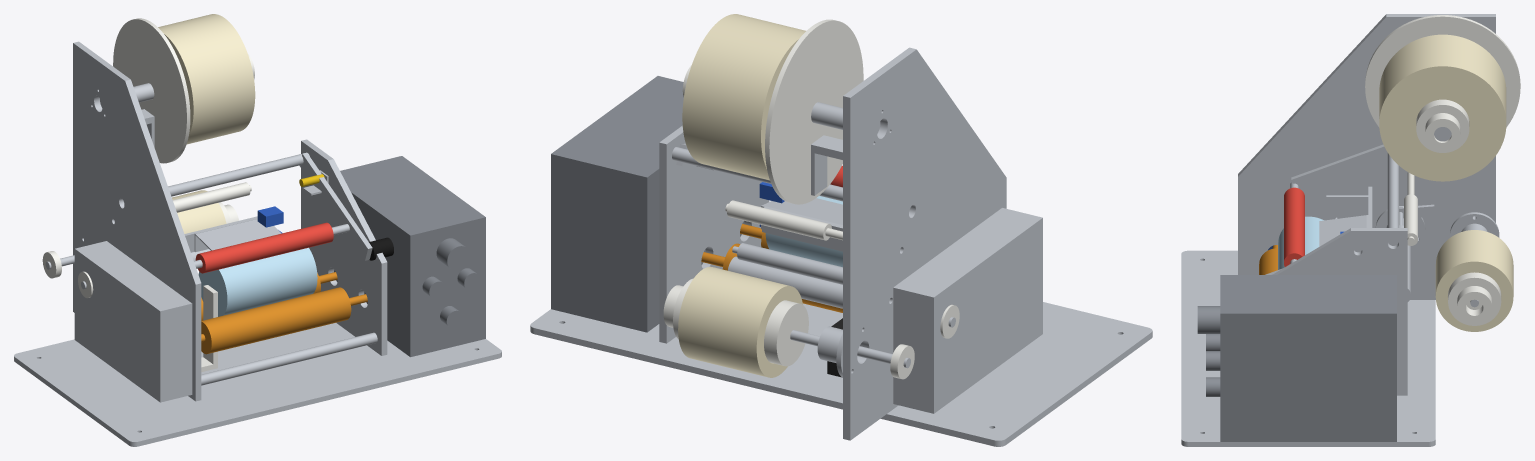
Rendered from P1-404-ASM.glb.
3 views of the same model, side by side, from view 1: azimuth 30°, elevation 25°; view 2: azimuth 150°, elevation 25°; view 3: azimuth 270°, elevation 25° (orthographic). The views are drawn at different scales.
Visible parts, largest first — view 1: P1-404-101, P1-404-102, P1-456, P1-404-204, LABELS, P1-404-103, P1-404-302, P1-425, JAR, P1-455, P1-404-104, P1-404-401 (+5 smaller); view 2: P1-404-102, P1-456, P1-404-101, LABELS, P1-404-204, P1-404-302, P1-404-103, P1-404-202, P1-404-307, P1-404-203, JAR, P1-404-304 (+8 smaller); view 3: P1-456, P1-404-102, LABELS, P1-404-101, P1-404-302, P1-404-103, P1-404-303, P1-404-404, P1-455, P1-404-201, P1-404-402, P1-404-403 (+4 smaller).
Part boxes in pixels (left/top/right/bottom): P1-404-101: left=14, top=323, right=501, bottom=446; P1-404-102: left=73, top=41, right=201, bottom=401; P1-456: left=334, top=156, right=485, bottom=357; P1-404-204: left=74, top=241, right=192, bottom=402; LABELS: left=158, top=14, right=255, bottom=233; P1-404-103: left=301, top=139, right=387, bottom=355; P1-404-302: left=113, top=18, right=231, bottom=223; P1-425: left=201, top=272, right=367, bottom=354; JAR: left=198, top=247, right=317, bottom=316; P1-455: left=195, top=222, right=333, bottom=273; P1-404-104: left=201, top=332, right=377, bottom=385; P1-404-401: left=194, top=218, right=281, bottom=252; P1-404-102: left=843, top=47, right=1006, bottom=440; P1-456: left=551, top=76, right=744, bottom=332; P1-404-101: left=530, top=302, right=1152, bottom=446; LABELS: left=678, top=14, right=805, bottom=377; P1-404-204: left=893, top=208, right=1042, bottom=413; P1-404-302: left=673, top=19, right=863, bottom=366; P1-404-103: left=659, top=125, right=769, bottom=343; P1-404-202: left=728, top=256, right=955, bottom=327; P1-404-307: left=725, top=200, right=842, bottom=240; P1-404-203: left=732, top=243, right=842, bottom=284; JAR: left=765, top=196, right=842, bottom=267; P1-404-304: left=811, top=135, right=842, bottom=195; P1-456: left=1197, top=275, right=1396, bottom=441; P1-404-102: left=1238, top=14, right=1495, bottom=299; LABELS: left=1379, top=34, right=1513, bottom=331; P1-404-101: left=1181, top=250, right=1435, bottom=446; P1-404-302: left=1365, top=15, right=1520, bottom=325; P1-404-103: left=1272, top=228, right=1407, bottom=395; P1-404-303: left=1425, top=113, right=1492, bottom=323; P1-404-404: left=1265, top=144, right=1387, bottom=274; P1-455: left=1284, top=187, right=1304, bottom=266; P1-404-201: left=1375, top=206, right=1499, bottom=249; P1-404-402: left=1326, top=186, right=1372, bottom=227; P1-404-403: left=1387, top=153, right=1398, bottom=245.
Size of the model in its own units: 640 by 490 by 480.
